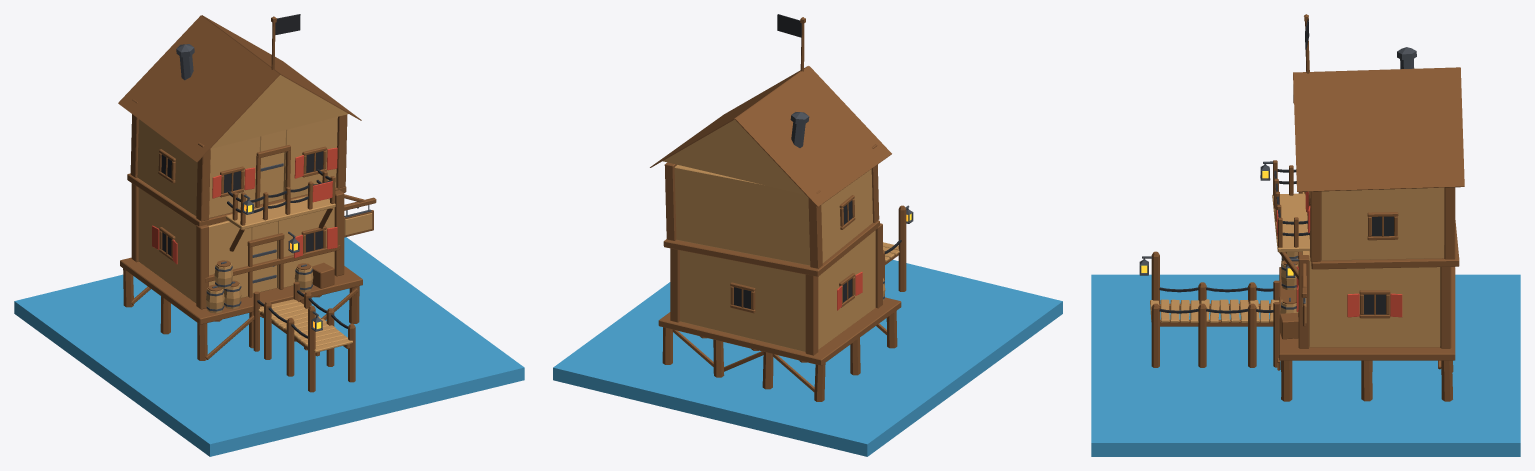
The model's file is pirate-stilt-tavern.glb.
The picture shows the model from 3 angles, left to right: view 1: azimuth 30°, elevation 25°; view 2: azimuth 150°, elevation 25°; view 3: azimuth 270°, elevation 25°; orthographic projection. The views are drawn at different scales.
Parts seen in each view (by area): view 1: Water, Roof, Roof_Gables, G_WallSide_-11, Deck, U_WallSide_-11.5, U_WallFront_R, U_WallFront_L, G_WallFront_L, G_WallFront_R, Balcony_Deck, U_FloorSlab (+9 smaller); view 2: Water, Roof, U_WallBack, G_WallBack, Roof_Gables, G_WallSide_-11, Deck, U_WallSide_-11.5, U_FloorSlab, G_Post_-11.2_12.2, U_Post_-11.6_9.2, U_Post_11.6_9.2 (+3 smaller); view 3: Water, Roof, G_WallSide_11, U_WallSide_11.5, Deck, U_FloorSlab, Balcony_Deck, G_Post_11.2_12.2, G_Post_11.2_-6.2, U_Post_11.6_9.2, U_Post_11.6_-8.2, DockPost_2.3_-25.6 (+9 smaller).
Boxes of the visible parts, bbox=[...] form: Water: bbox=[14, 237, 524, 456]; Roof: bbox=[118, 15, 361, 162]; Roof_Gables: bbox=[210, 75, 348, 148]; G_WallSide_-11: bbox=[138, 188, 196, 303]; Deck: bbox=[120, 257, 362, 324]; U_WallSide_-11.5: bbox=[137, 119, 197, 216]; U_WallFront_R: bbox=[283, 117, 337, 199]; U_WallFront_L: bbox=[209, 136, 260, 218]; G_WallFront_L: bbox=[208, 221, 251, 297]; G_WallFront_R: bbox=[277, 198, 334, 288]; Balcony_Deck: bbox=[226, 196, 335, 229]; U_FloorSlab: bbox=[127, 173, 346, 226]; Water: bbox=[553, 260, 1062, 456]; Roof: bbox=[650, 66, 891, 207]; U_WallBack: bbox=[674, 165, 810, 265]; G_WallBack: bbox=[680, 250, 805, 351]; Roof_Gables: bbox=[663, 119, 804, 194]; G_WallSide_-11: bbox=[818, 230, 875, 349]; Deck: bbox=[658, 297, 901, 365]; U_WallSide_-11.5: bbox=[821, 169, 872, 262]; U_FloorSlab: bbox=[663, 220, 879, 276]; G_Post_-11.2_12.2: bbox=[805, 274, 818, 355]; U_Post_-11.6_9.2: bbox=[808, 190, 822, 268]; U_Post_11.6_9.2: bbox=[664, 162, 676, 240]; Water: bbox=[1091, 274, 1520, 456]; Roof: bbox=[1293, 67, 1464, 191]; G_WallSide_11: bbox=[1309, 257, 1440, 347]; U_WallSide_11.5: bbox=[1321, 187, 1444, 260]; Deck: bbox=[1279, 267, 1455, 360]; U_FloorSlab: bbox=[1304, 192, 1459, 269]; Balcony_Deck: bbox=[1272, 193, 1309, 252]; G_Post_11.2_12.2: bbox=[1440, 267, 1451, 348]; G_Post_11.2_-6.2: bbox=[1298, 255, 1309, 348]; U_Post_11.6_9.2: bbox=[1444, 187, 1455, 259]; U_Post_11.6_-8.2: bbox=[1310, 191, 1321, 261]; DockPost_2.3_-25.6: bbox=[1151, 303, 1159, 367].
Bounding box in the file's own units: 52 × 52.04 × 56.
